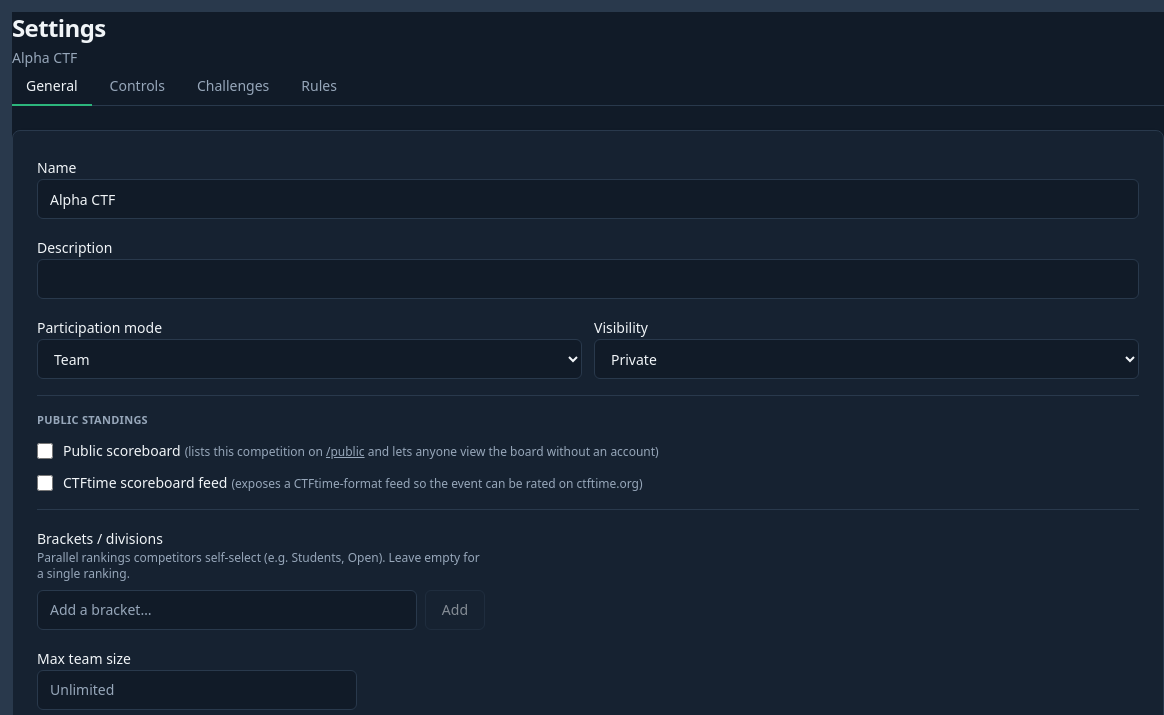
Test case: CompetitionSettingsPage across competition switches (#258) › keeps unsaved edits across a tab switch within one competition
Replace the text in the field labelled "Name" with "Unsaved edit": (588, 199) [37,179,1139,219]
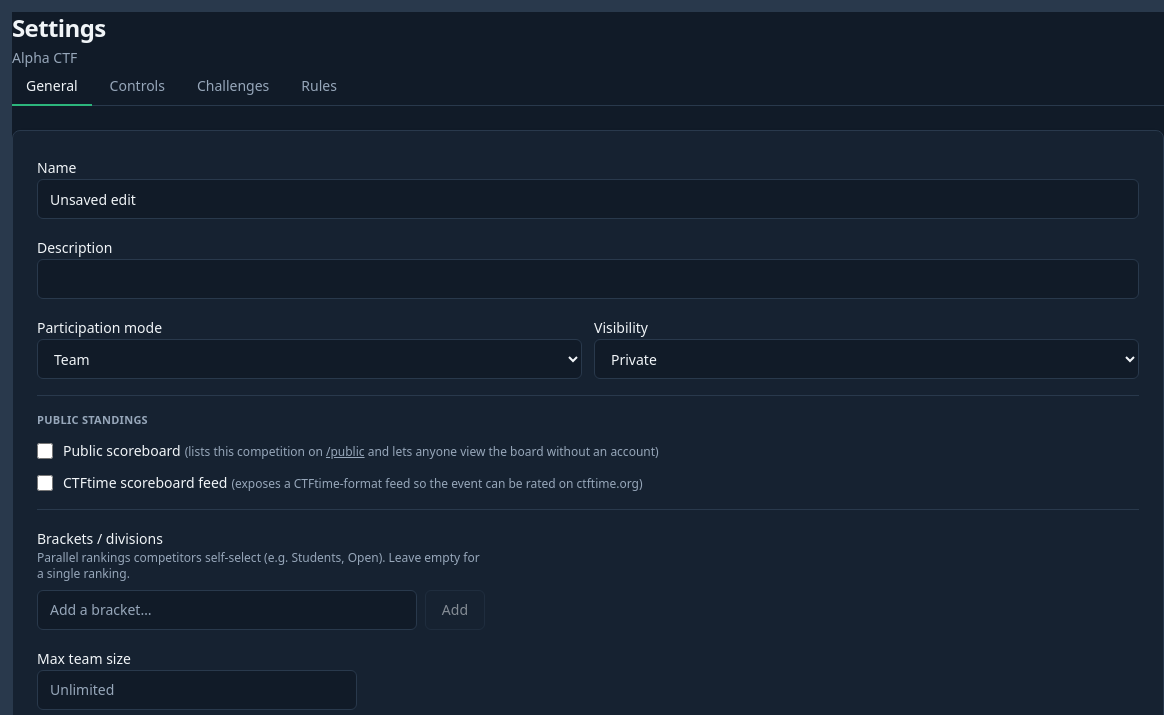
Click the tab "Controls": (137, 87) [96,68,179,106]
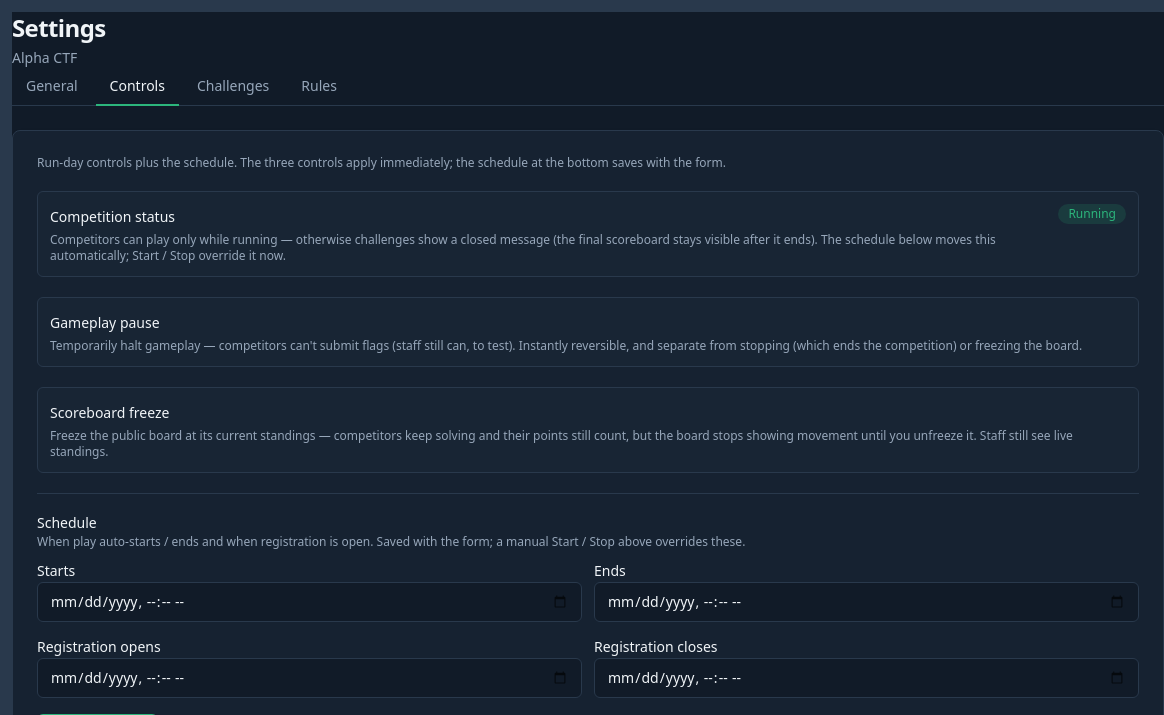
Click the tab "General": (52, 87) [12,68,92,106]
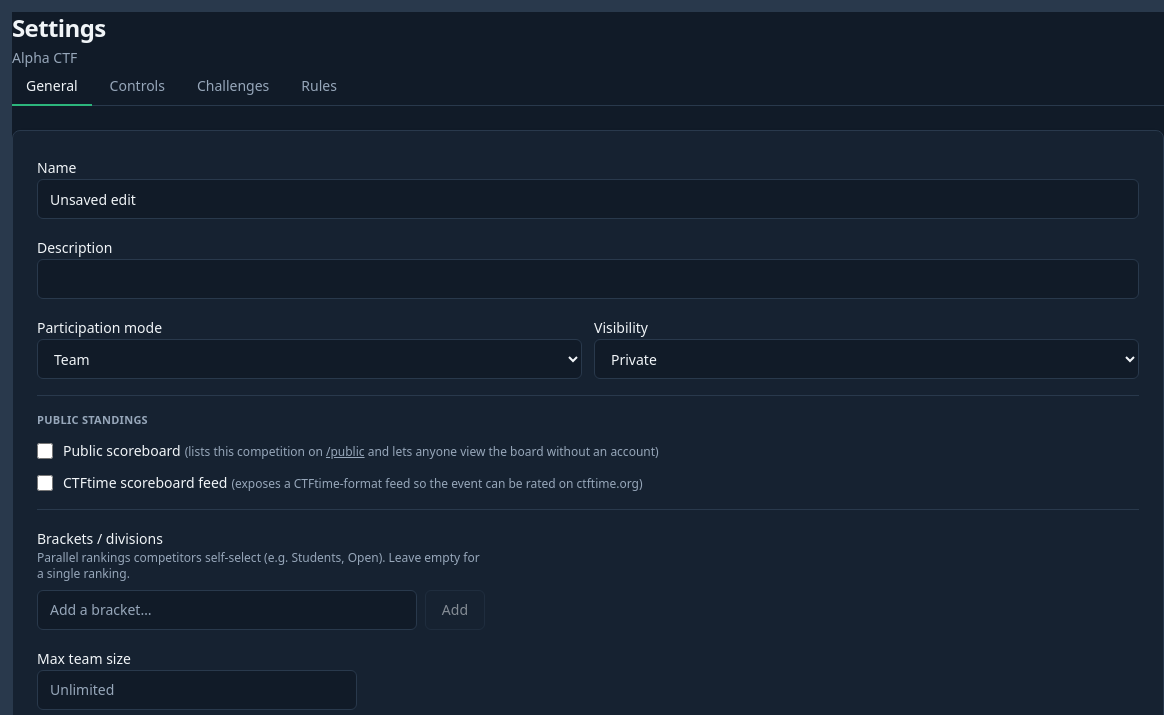
Now the field labelled "Name" holds "Unsaved edit", box [37,179,1139,219]
